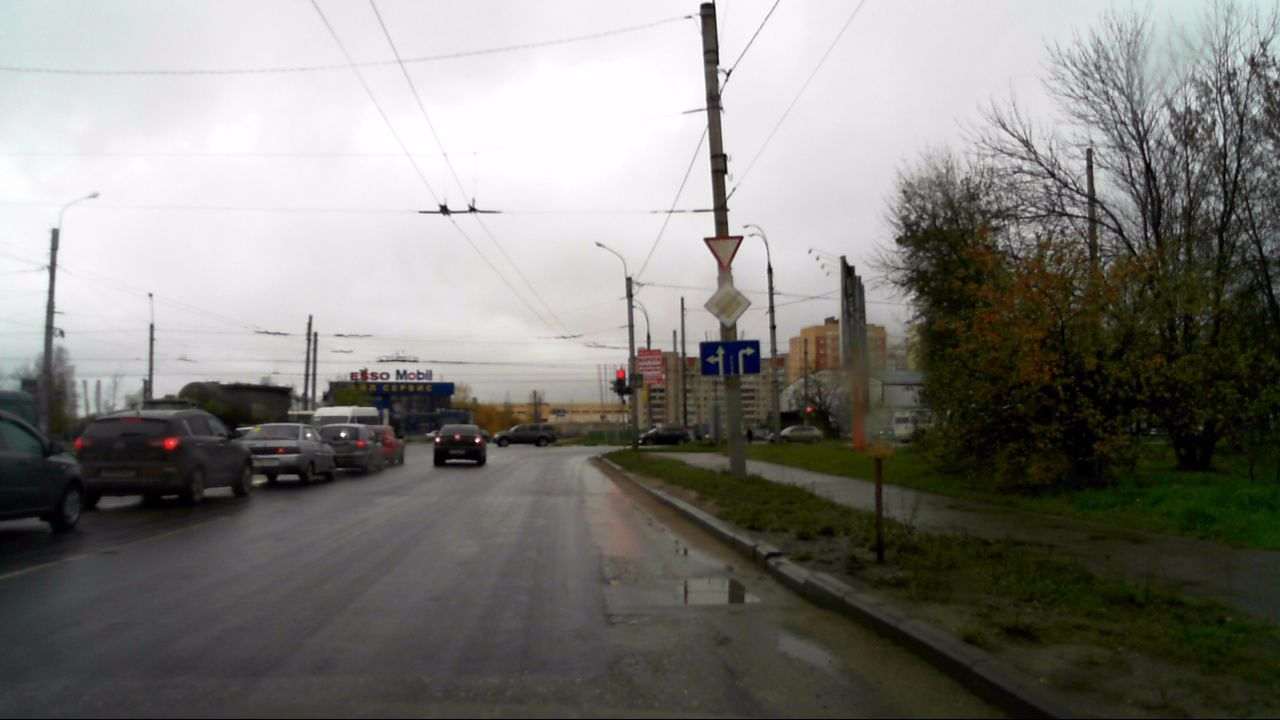main road: (703, 281, 751, 328)
